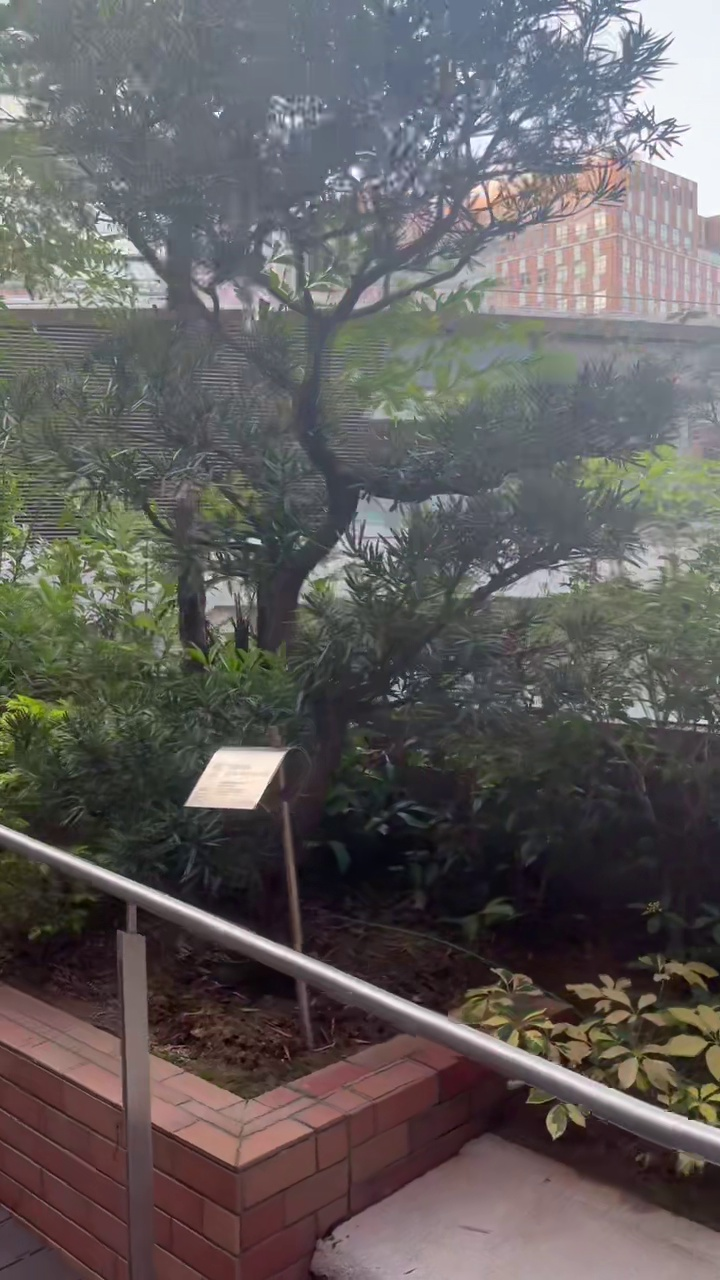Podocarpus macrophyllus: (0, 0, 678, 833)
